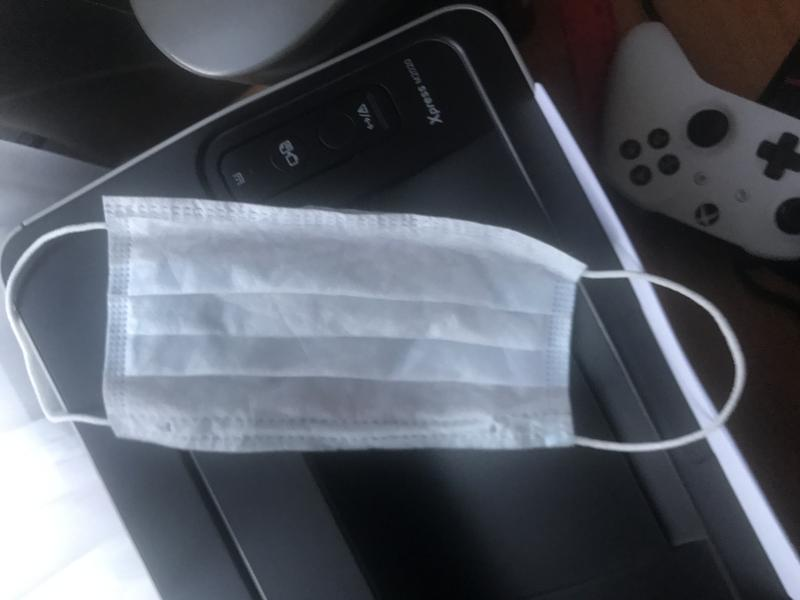medical_mask: (4, 196, 746, 452)
